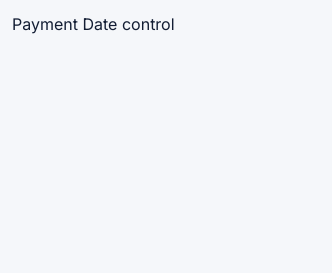
Scenario: PaymentForm locked-field tooltips › shows the unlock explanation for the {"field":"Payment Date","note":"Date can't shift until the cash-invariant issue above is resolved."} field
Focus the element showing "Payment Date control" at (93, 24), box [12,12,175,36]
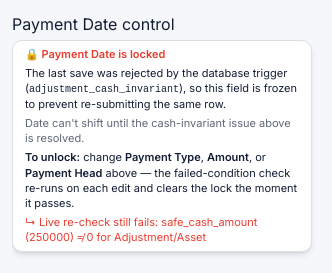
Expected: the text "adjustment_cash_invariant" is shown, [29,84,179,95]
Expected: the text "rejected by the database trigger" is shown, [25,66,287,95]
Expected: the text "Date can't shift until the cash-invariant issue above is resolved." is shown, [25,116,299,146]
